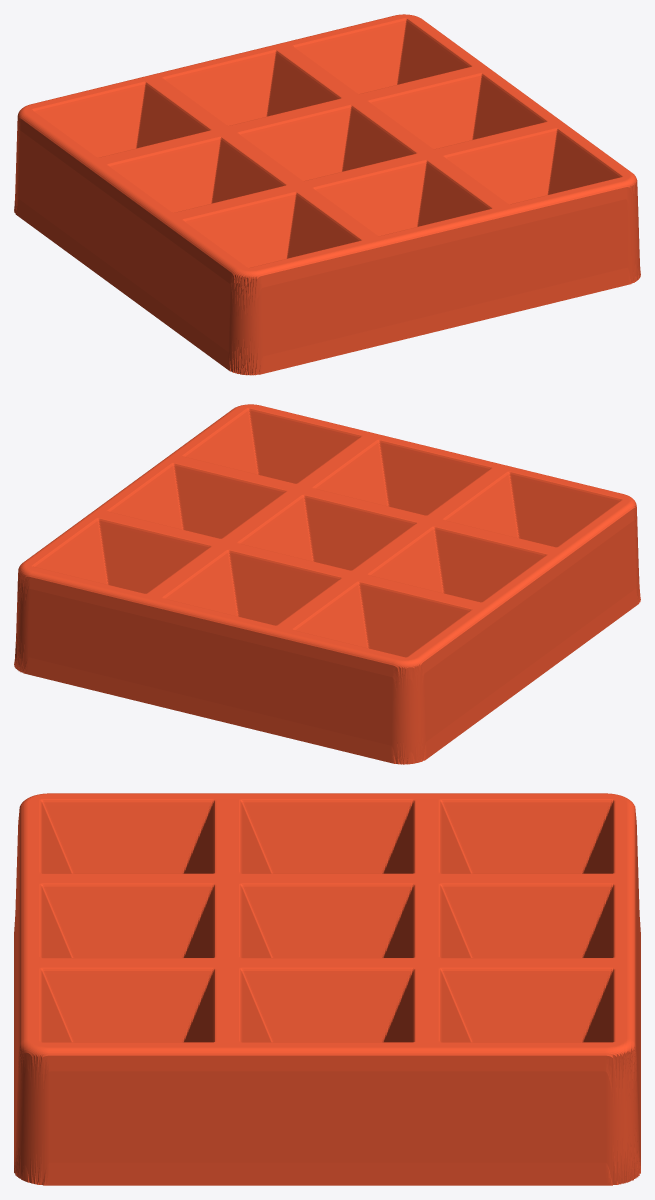
The model's file is mold.glb.
The picture shows the model from 3 angles, top to bottom: view 1: azimuth 30°, elevation 25°; view 2: azimuth 150°, elevation 25°; view 3: azimuth 270°, elevation 25°; orthographic projection. The views are drawn at different scales.
Visible parts, largest first — view 1: geometry_0; view 2: geometry_0; view 3: geometry_0.
Part boxes in pixels (left/top/right/bottom): geometry_0: left=14, top=14, right=640, bottom=375; geometry_0: left=14, top=404, right=640, bottom=764; geometry_0: left=14, top=793, right=640, bottom=1185.
Bounding box in the file's own units: 0.1622 × 0.0378 × 0.1622.
